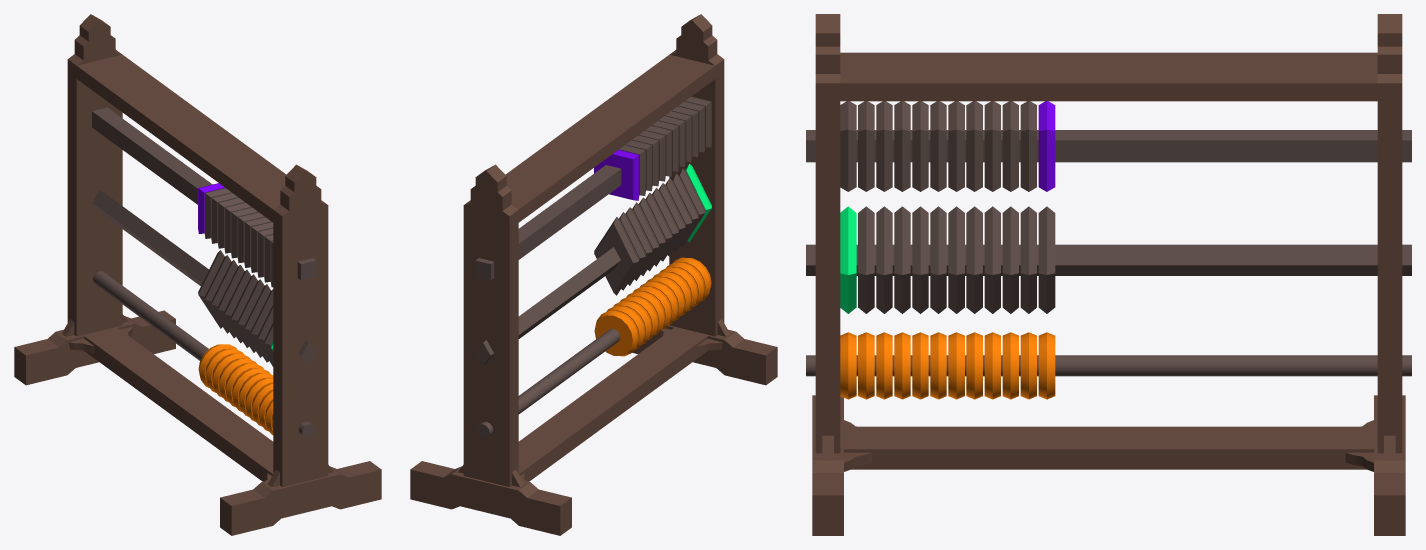
The model's file is Abacus_Rachel.fbx.
3 views of the same model, side by side, from view 1: azimuth 30°, elevation 25°; view 2: azimuth 150°, elevation 25°; view 3: azimuth 270°, elevation 25° (orthographic). The views are drawn at different scales.
Parts seen in each view (by area): view 1: _Frame, Bravery, Wit, Charm, w12, w11, w08, w10, w06, w05, w07, w09 (+15 smaller); view 2: _Frame, Bravery, Wit, Charm, w12, c12, b12, w10, w11, w09, w08, w07 (+25 smaller); view 3: _Frame, Bravery, Wit, Charm, w12, w02, w03, w06, w07, w11, w01, w04 (+28 smaller).
Boxes of the visible parts, <box> form: _Frame: <box>14,14,381,535</box>; Bravery: <box>92,107,316,280</box>; Wit: <box>92,189,316,365</box>; Charm: <box>93,271,315,438</box>; w12: <box>198,250,224,328</box>; w11: <box>204,255,231,333</box>; w08: <box>224,269,251,347</box>; w10: <box>211,260,238,338</box>; w06: <box>237,279,264,357</box>; w05: <box>244,284,271,362</box>; w07: <box>231,274,257,352</box>; w09: <box>218,265,244,343</box>; _Frame: <box>410,14,777,535</box>; Bravery: <box>475,165,621,280</box>; Wit: <box>475,247,620,365</box>; Charm: <box>476,328,620,438</box>; w12: <box>594,217,639,295</box>; c12: <box>594,311,638,356</box>; b12: <box>594,149,639,200</box>; w10: <box>625,207,652,285</box>; w11: <box>619,212,645,290</box>; w09: <box>632,202,658,280</box>; w08: <box>639,197,665,275</box>; w07: <box>645,193,672,271</box>; _Frame: <box>812,14,1405,535</box>; Bravery: <box>806,130,1411,162</box>; Wit: <box>806,244,1411,275</box>; Charm: <box>806,355,1411,376</box>; w12: <box>1038,206,1055,313</box>; w02: <box>858,206,874,313</box>; w03: <box>876,206,892,313</box>; w06: <box>930,206,946,313</box>; w07: <box>948,206,964,313</box>; w11: <box>1020,206,1036,313</box>; w01: <box>840,206,856,313</box>; w04: <box>894,206,910,313</box>.
Size of the model in its own units: 57.69 by 127 by 148.
